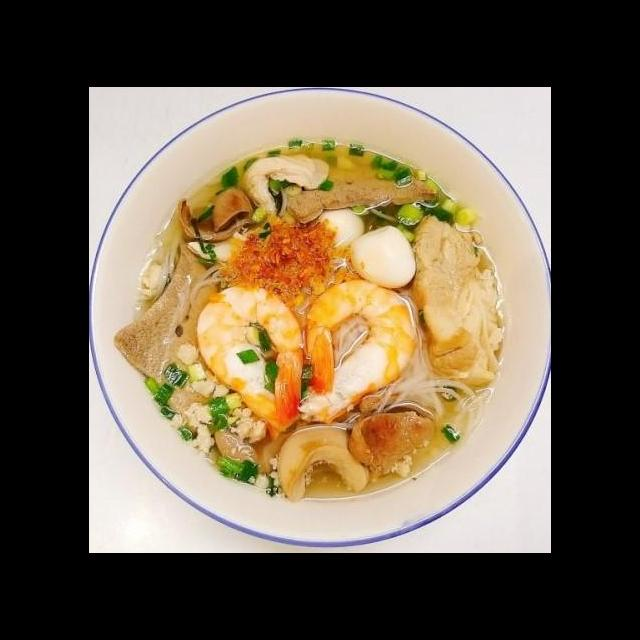banh hu tieu: (373, 327, 484, 439)
gan: (108, 235, 242, 419), (280, 161, 442, 229)
hu tieu: (90, 127, 551, 541)
thit bam: (161, 336, 269, 462)
thit heo: (408, 211, 509, 392), (181, 152, 332, 270)
tom: (291, 276, 422, 429), (192, 279, 308, 436)
trung: (344, 223, 419, 293), (305, 207, 368, 259)
